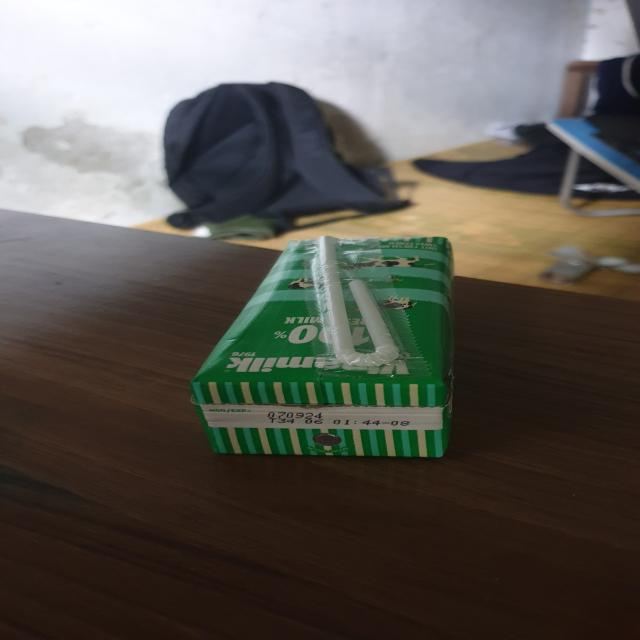Vina: (184, 233, 460, 461)
